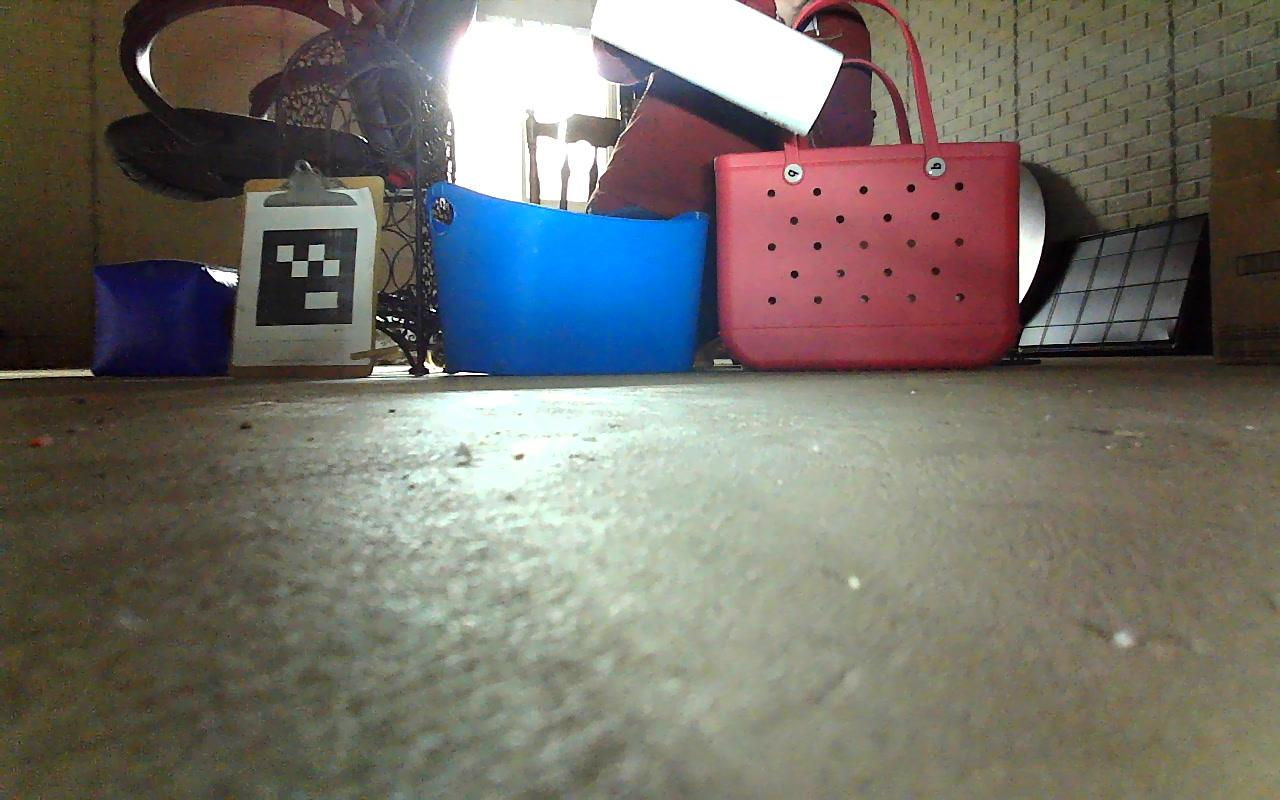coral: (583, 0, 847, 141)
